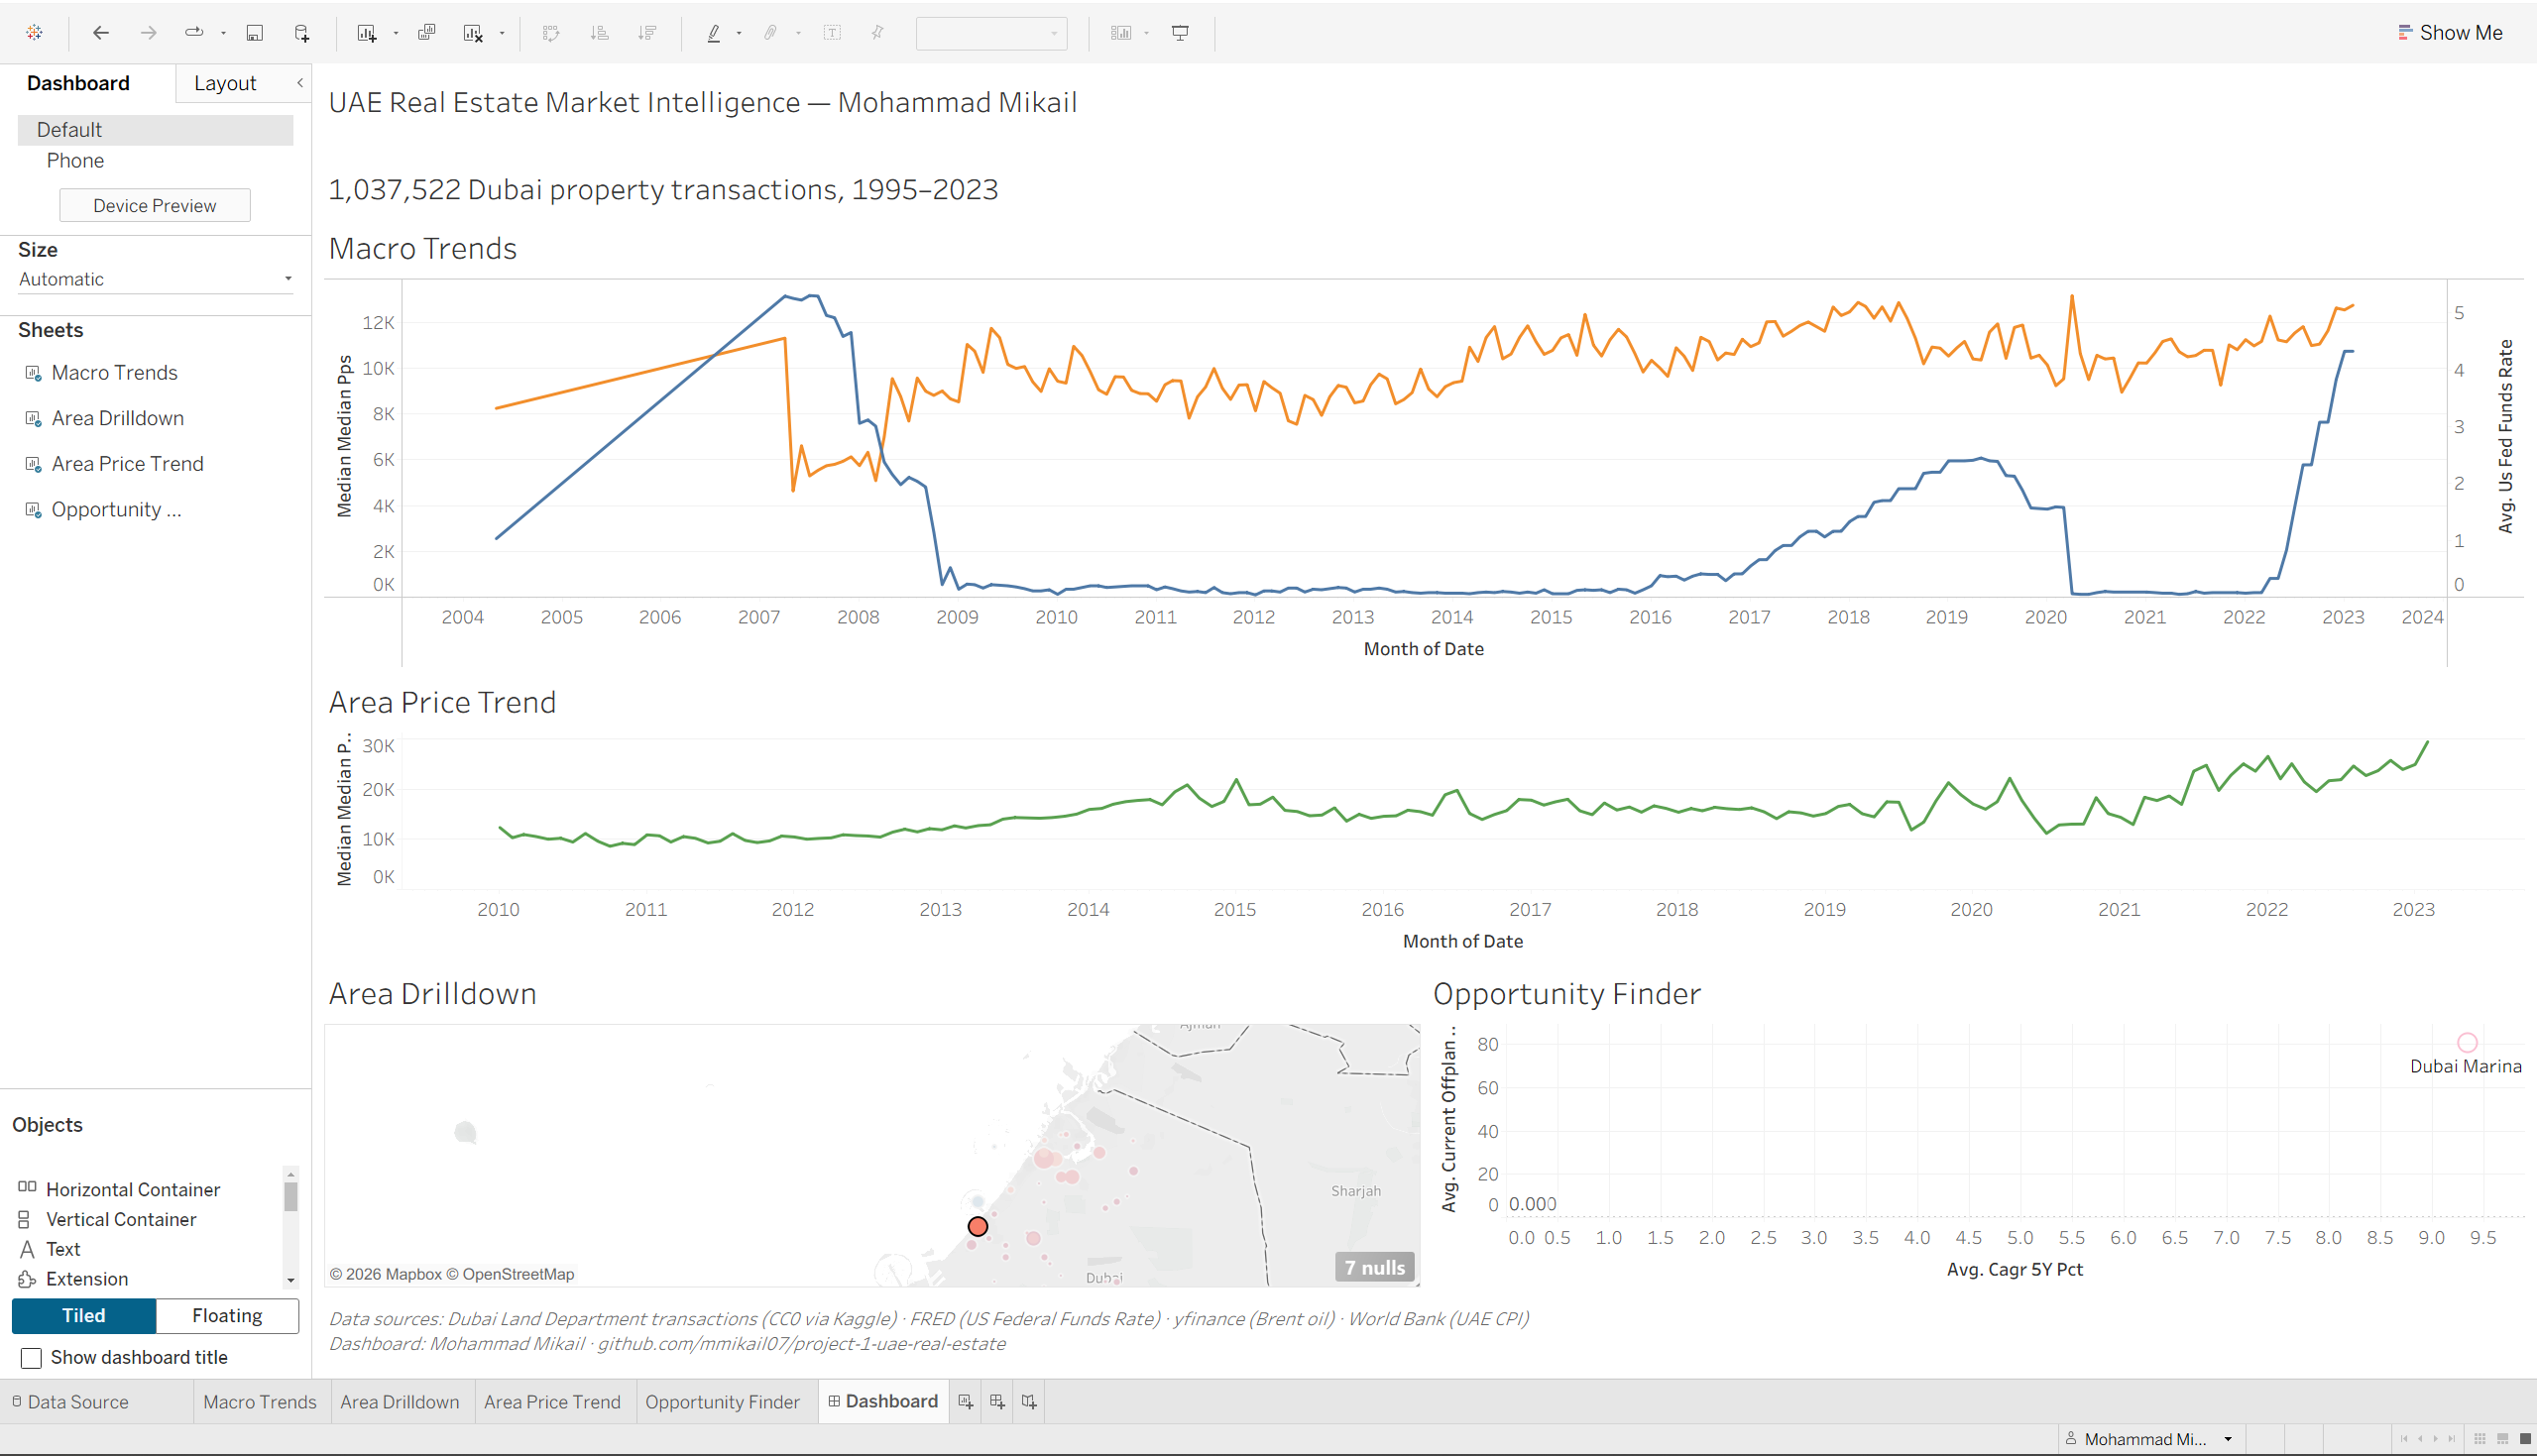

What the dashboard file says about the page in this screenshot:
{"tool":"tableau","page":{"name":"Dashboard","canvas":[1000,1000],"units":"permille","ordinal":0},"visuals":[{"type":"title","box":[3.6,6,992.9,111.6]},{"type":"worksheet","title":"Macro Trends","mark":"Automatic","rows":["median_pps","us_fed_funds_rate"],"cols":["date"],"box":[3.6,117.6,992.9,345.2]},{"type":"worksheet","title":"Area Price Trend","mark":"Automatic","rows":["median_pps"],"cols":["date"],"box":[3.6,462.8,992.9,221.7]},{"type":"worksheet","title":"Area Drilldown","mark":"Automatic","rows":["lat"],"cols":["lon"],"box":[3.6,684.6,496.4,249.8]},{"type":"worksheet","title":"Opportunity Finder","mark":"Automatic","rows":["current_offplan_gap_pct"],"cols":["cagr_5y_pct"],"box":[500,684.6,496.4,249.8]},{"type":"text","box":[3.6,934.4,992.9,59.6]}]}

Visuals, with their boxes on the dashboard's canvas, which has no fixed pixel size, in thousandths of its width and height (x1, y1, x2, y2). These are canvas units, not pixel positions in the 2537x1456 screenshot, which may show the page scaled, cropped or inside an application window:
title: <box>4,6,996,118</box>
"Macro Trends" worksheet: <box>4,118,996,463</box>
"Area Price Trend" worksheet: <box>4,463,996,684</box>
"Area Drilldown" worksheet: <box>4,685,500,934</box>
"Opportunity Finder" worksheet: <box>500,685,996,934</box>
text: <box>4,934,996,994</box>
